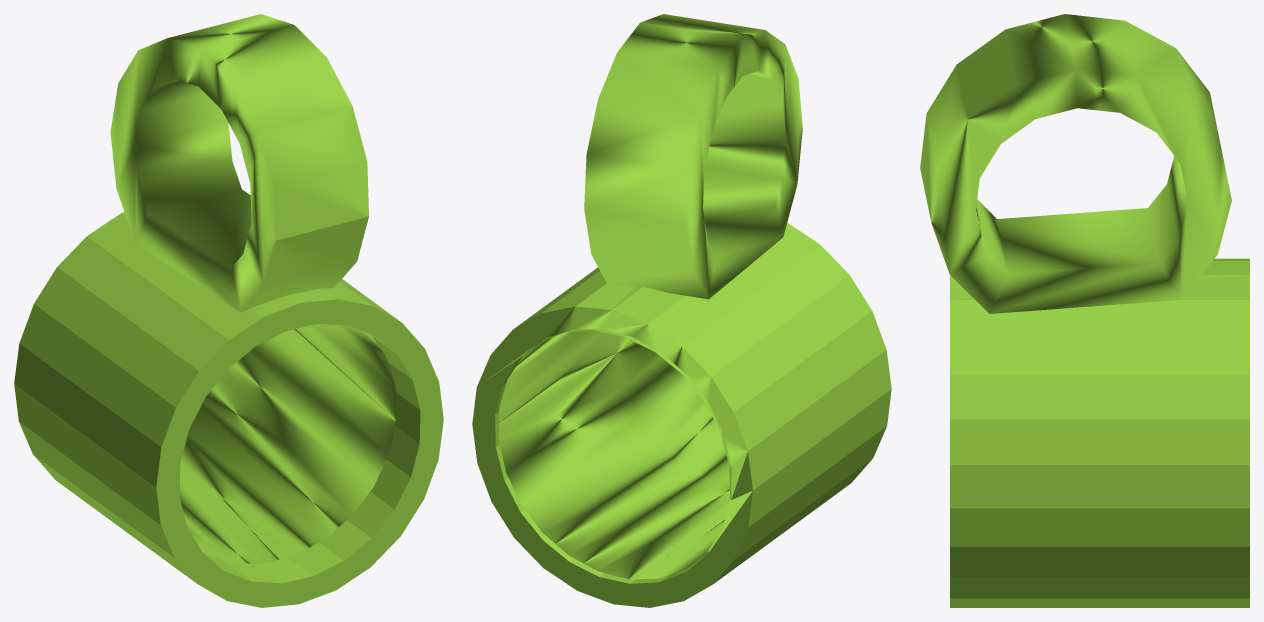
The model's file is model_align.obj.
3 renders of one model, left to right at view 1: azimuth 30°, elevation 25°; view 2: azimuth 150°, elevation 25°; view 3: azimuth 270°, elevation 25°, orthographic. The views are drawn at different scales.
Size of the model in its own units: 0.0734 by 0.1283 by 0.0691.
